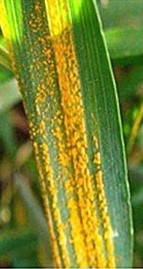Leaf Rust: (23, 34, 127, 259)
